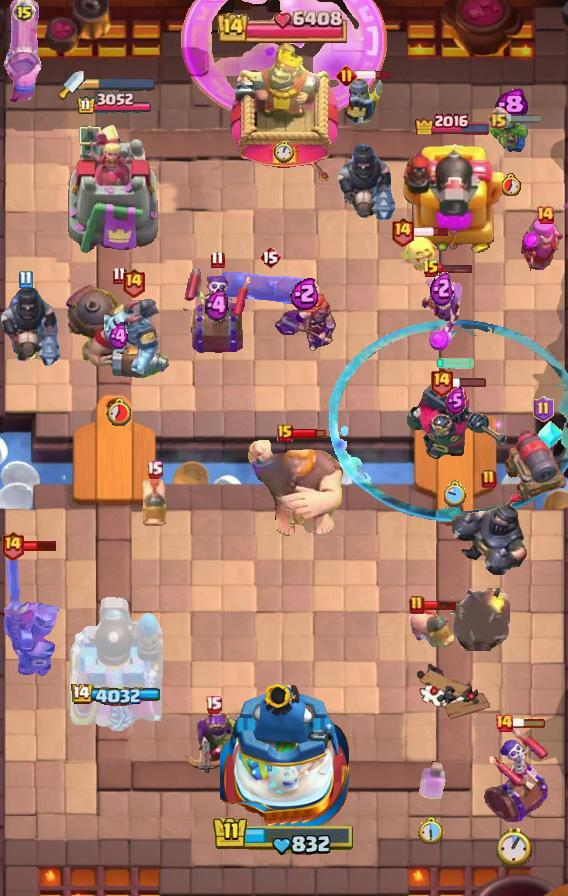baby-dragon: (450, 588, 509, 651)
balloon: (248, 437, 346, 539)
bar: (67, 122, 161, 256)
barbarian-hut: (177, 710, 249, 776)
bat-evolution: (399, 234, 441, 272)
battle-healer: (1, 0, 47, 104)
clock: (212, 815, 356, 857), (217, 9, 351, 43)
electro-spirit: (494, 88, 528, 122), (290, 276, 321, 310), (430, 270, 454, 307), (205, 290, 229, 322), (108, 322, 130, 350), (446, 387, 467, 414)
elixir: (496, 827, 532, 867), (107, 397, 134, 426), (418, 815, 445, 844), (445, 480, 468, 507), (274, 140, 294, 164), (502, 172, 521, 196)
elixir-golem-small: (104, 299, 162, 377)
emote: (22, 539, 59, 553), (356, 69, 393, 81), (413, 226, 450, 238), (451, 376, 487, 388), (511, 717, 547, 729), (290, 427, 325, 439), (438, 262, 474, 273), (422, 600, 458, 611), (508, 112, 543, 123)
executioner: (408, 603, 454, 647), (138, 476, 170, 530)
giant-snowball: (490, 114, 532, 154)
ice-spirit: (434, 358, 476, 370)
inferno-dragon: (336, 134, 398, 222), (0, 284, 64, 367)
inferno-tower: (401, 380, 509, 464)
king-tower: (219, 678, 349, 826), (230, 43, 338, 181)
king-tower-bar: (84, 77, 156, 91)
knight-evolution: (180, 0, 388, 123), (417, 761, 446, 800)
minion: (219, 270, 321, 306)
pad_0: (328, 319, 567, 523)
pad_2: (537, 419, 565, 451)
princess: (337, 71, 385, 131)
rascal-girl: (418, 273, 466, 351), (520, 213, 568, 281)
royal-giant-evolution: (504, 426, 568, 504)
royal-guardian: (447, 492, 531, 578)
selected: (68, 685, 159, 708), (414, 111, 492, 135), (75, 92, 152, 116)
skeleton-king-bar: (479, 726, 549, 826), (183, 269, 251, 355)
tesla-evolution: (273, 290, 337, 354)
text: (390, 217, 415, 248), (121, 266, 146, 297), (430, 366, 454, 397), (0, 531, 24, 561), (12, 0, 36, 24), (534, 396, 555, 422), (487, 106, 510, 129), (259, 245, 281, 269), (335, 65, 357, 86), (535, 205, 555, 225), (494, 713, 514, 733), (422, 259, 440, 279), (146, 461, 163, 480), (206, 694, 223, 713), (481, 469, 497, 489), (409, 595, 425, 615), (277, 424, 293, 442), (113, 267, 128, 286), (19, 271, 34, 289), (211, 251, 225, 270)
tower-bar: (65, 593, 163, 731), (399, 138, 507, 256)
wall-breaker-evolution: (0, 546, 64, 680)
wizard: (63, 283, 175, 381)
